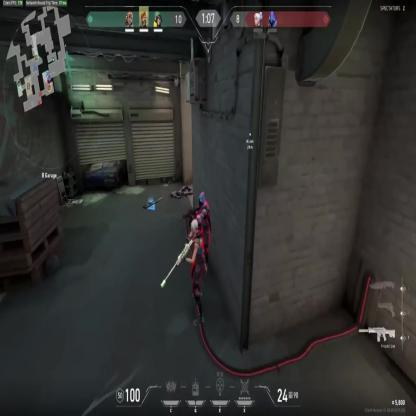enemy: (188, 218, 206, 326), (196, 191, 210, 277)
enemy_head: (190, 219, 198, 235), (199, 192, 206, 205)
